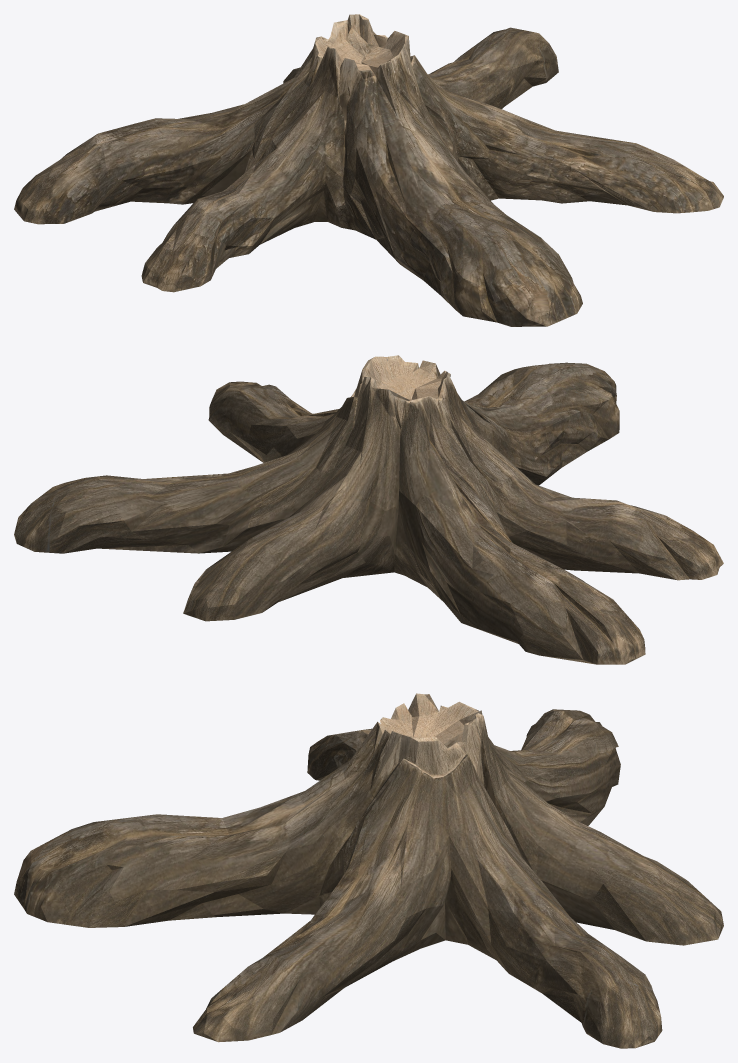
File: co_buttress_roots.glb
The picture shows the model from 3 angles, top to bottom: view 1: azimuth 30°, elevation 25°; view 2: azimuth 150°, elevation 25°; view 3: azimuth 270°, elevation 25°; orthographic projection. The views are drawn at different scales.
Visible parts, largest first — view 1: output_unwrapped; view 2: output_unwrapped; view 3: output_unwrapped.
Boxes of the visible parts, <box> form: output_unwrapped: <box>14,14,723,326</box>; output_unwrapped: <box>14,355,723,664</box>; output_unwrapped: <box>14,693,723,1048</box>.
Size of the model in its own units: 1.9 by 0.5255 by 1.82.
Materials: 1 (1 with a texture image).
